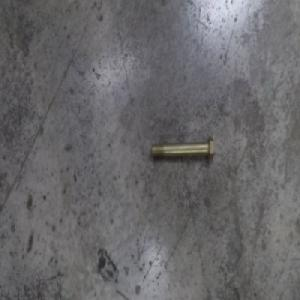Bolt: (149, 132, 215, 161)
